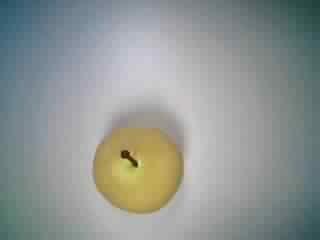pear: (80, 115, 189, 222)
